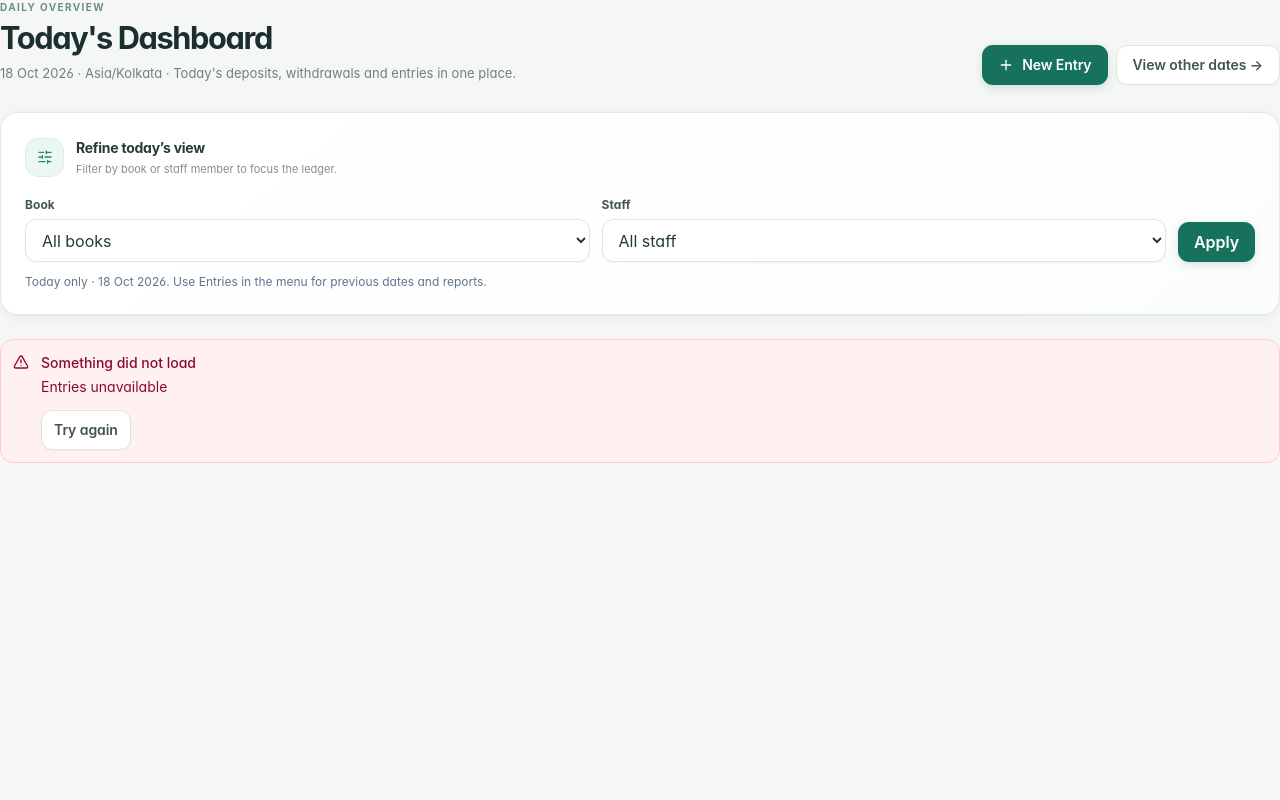
Test case: shows request and PDF errors with retry without losing the current selection
Expected: the text "Entries unavailable" is shown, x1=41 y1=378 x2=167 y2=395
Click the button "Try again".
click(86, 430)  # box x1=41 y1=410 x2=131 y2=450
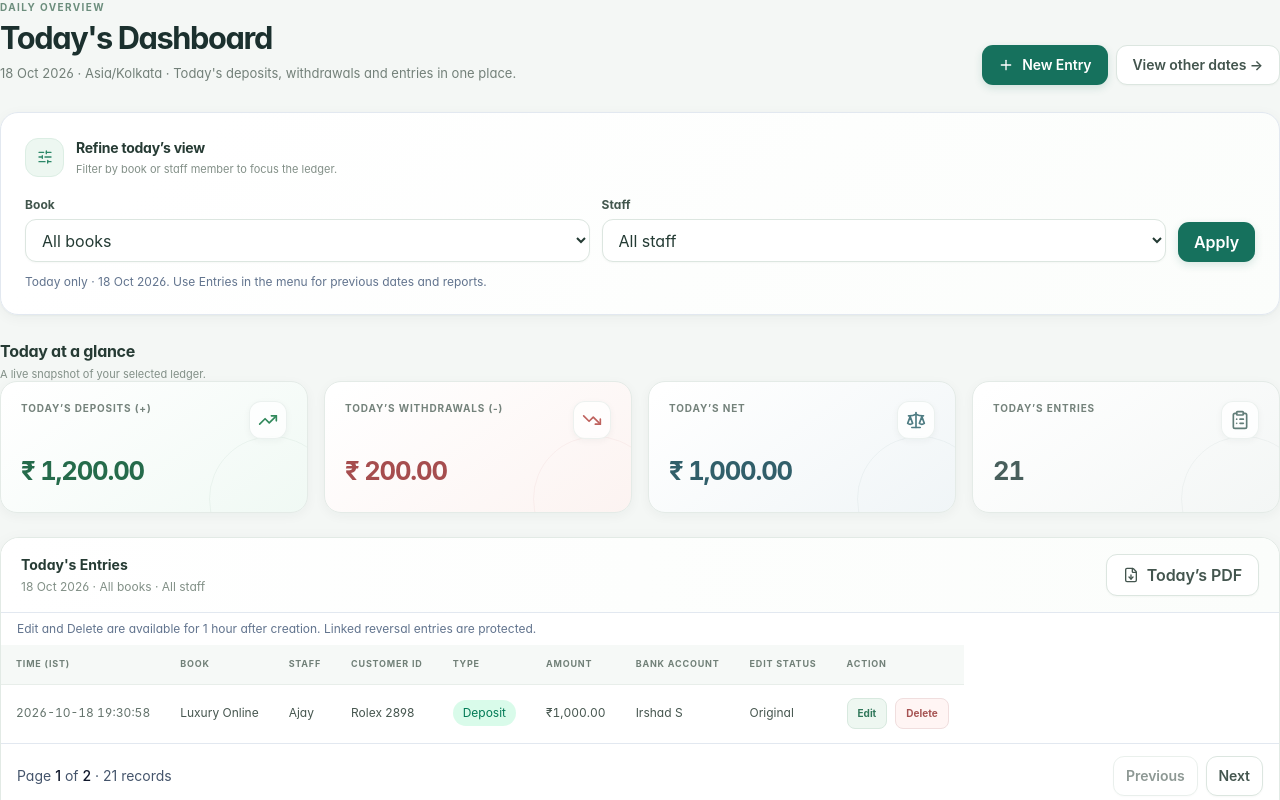
Now the text "Rolex 2898" is shown, box x1=336 y1=685 x2=438 y2=743
Click the button "Today’s PDF".
click(1182, 575)  # box x1=1106 y1=554 x2=1259 y2=596
(page scrolled)
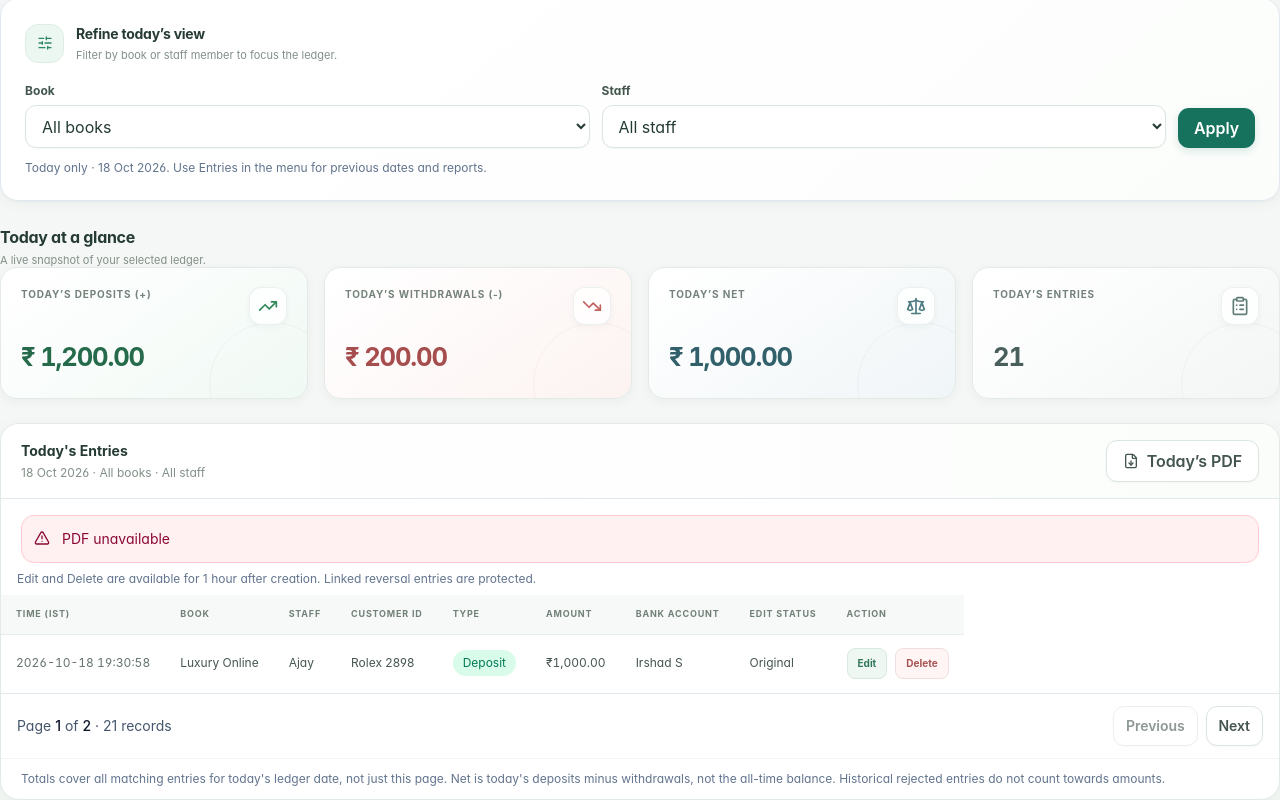
Now the text "Rolex 2898" is shown, box x1=336 y1=634 x2=438 y2=692
Now the text "PDF unavailable" is shown, box x1=62 y1=528 x2=170 y2=550
